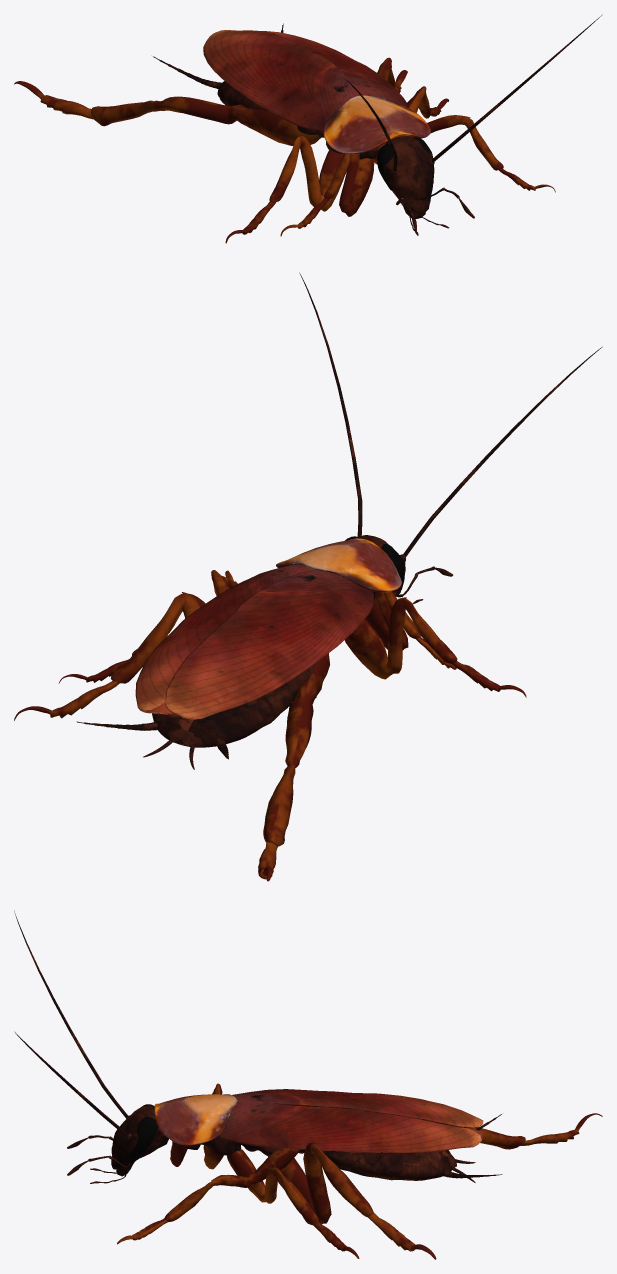
The model's file is Cockroach Broken Animation.fbx.
The picture shows the model from 3 angles, top to bottom: view 1: azimuth 30°, elevation 25°; view 2: azimuth 150°, elevation 25°; view 3: azimuth 270°, elevation 25°; orthographic projection. The views are drawn at different scales.
Visible parts, largest first — view 1: polySurface20, polySurface30, polySurface19, polySurface23, polySurface29, polySurface28, polySurface21, polySurface25, polySurface14, polySurface26, polySurface24, polySurface27 (+3 smaller); view 2: polySurface20, polySurface21, polySurface30, polySurface24, polySurface29, polySurface19, polySurface27, polySurface28, polySurface6, polySurface14; view 3: polySurface21, polySurface20, polySurface27, polySurface19, polySurface24, polySurface26, polySurface25, polySurface23, polySurface30, polySurface22, polySurface6, polySurface32 (+1 smaller).
Part boxes in pixels (x1=…): polySurface20: x1=203, y1=30, x2=356, y2=131; polySurface30: x1=14, y1=81, x2=321, y2=145; polySurface19: x1=323, y1=95, x2=430, y2=153; polySurface23: x1=384, y1=136, x2=434, y2=218; polySurface29: x1=225, y1=135, x2=343, y2=243; polySurface28: x1=280, y1=153, x2=374, y2=236; polySurface21: x1=257, y1=30, x2=407, y2=107; polySurface25: x1=410, y1=115, x2=555, y2=192; polySurface14: x1=431, y1=14, x2=602, y2=162; polySurface26: x1=374, y1=86, x2=448, y2=164; polySurface24: x1=217, y1=81, x2=267, y2=111; polySurface27: x1=377, y1=57, x2=407, y2=92; polySurface20: x1=165, y1=570, x2=374, y2=719; polySurface21: x1=135, y1=564, x2=312, y2=714; polySurface30: x1=258, y1=653, x2=329, y2=881; polySurface24: x1=152, y1=662, x2=317, y2=747; polySurface29: x1=345, y1=597, x2=526, y2=697; polySurface19: x1=276, y1=538, x2=401, y2=592; polySurface27: x1=14, y1=592, x2=199, y2=720; polySurface28: x1=365, y1=591, x2=474, y2=669; polySurface6: x1=403, y1=346, x2=602, y2=556; polySurface14: x1=299, y1=272, x2=362, y2=536; polySurface21: x1=219, y1=1102, x2=482, y2=1152; polySurface20: x1=232, y1=1089, x2=483, y2=1128; polySurface27: x1=268, y1=1142, x2=436, y2=1259; polySurface19: x1=154, y1=1094, x2=237, y2=1145; polySurface24: x1=299, y1=1149, x2=451, y2=1180; polySurface26: x1=226, y1=1149, x2=359, y2=1258; polySurface25: x1=117, y1=1148, x2=299, y2=1244; polySurface23: x1=111, y1=1105, x2=168, y2=1176; polySurface30: x1=298, y1=1113, x2=602, y2=1153; polySurface22: x1=179, y1=1136, x2=281, y2=1156; polySurface6: x1=14, y1=910, x2=127, y2=1118; polySurface32: x1=130, y1=1116, x2=158, y2=1156.
Bounding box in the file's own units: 2.01 × 1.53 × 3.46.
